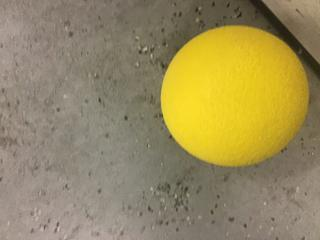power_cell: (156, 24, 311, 174)
